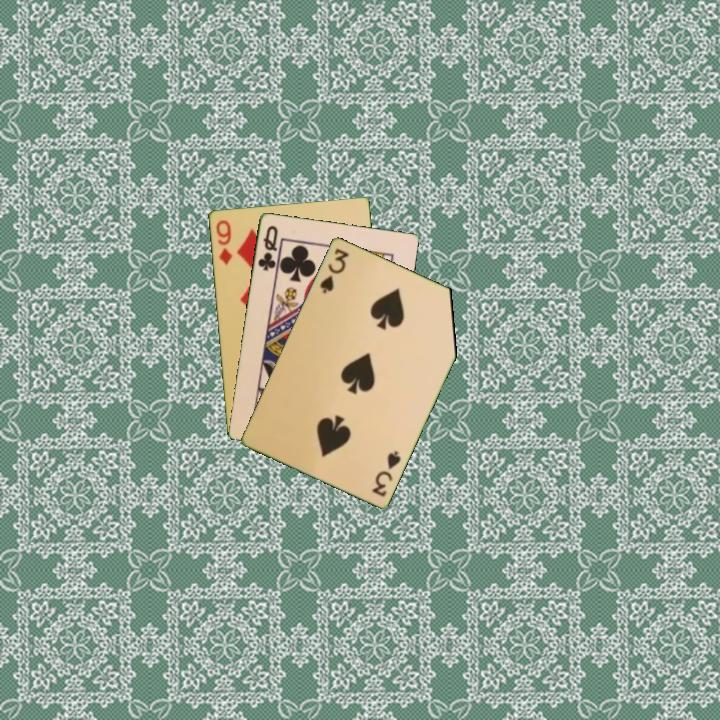3s: (316, 244, 352, 296), (368, 447, 404, 499)
9d: (212, 216, 235, 267)
Qc: (254, 222, 280, 273)
